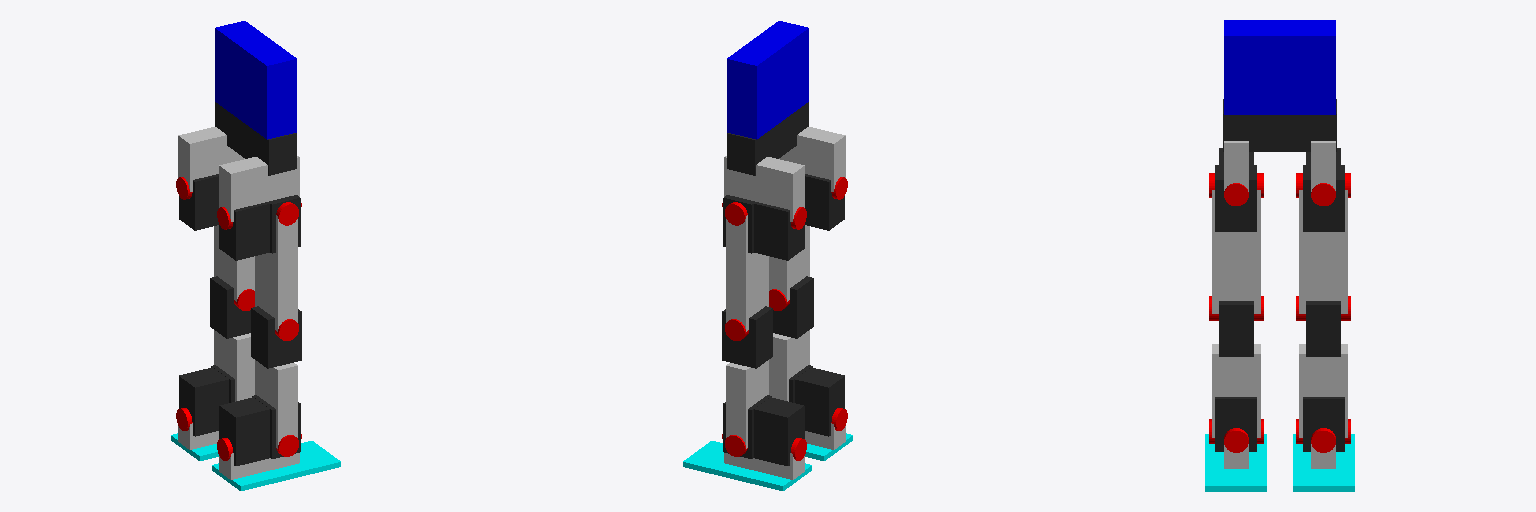
robot.urdf — humanoid:
<?xml version="1.0" ?>
<robot name="humanoid">
    <link name="body">
        <visual>
			<geometry>
				<box size="0.030 0.090 0.070"/>
			</geometry>
		    <origin xyz="0 0 0.355" rpy="0 0 0"/>
            <axis xyz="0 0 0" />
			<material name="blue">
	       		<color rgba="0 0 1 1.0"/>
	     	</material>
		</visual>
        <inertial>
            <mass value="0.3"/>
            <inertia ixx="0.000325" ixy="0.0" ixz="0.0" iyy="0.000145" iyz="0.0" izz="0.000225"/>
        </inertial>
        <collision>
			<geometry>
				<box size="0.030 0.090 0.070"/>
			</geometry>
		    <origin xyz="0 0 0.355" rpy="0 0 0"/>
        </collision>
    </link>


    <joint name="fixed_waist" type="fixed">
        <parent link="body"/>
        <child link="waist"/>
    </joint>

    <link name="waist">
        <visual>
			<geometry>
				<box size="0.0285 0.093 0.034"/>
			</geometry>
		    <origin xyz="0 0 0.303" rpy="0 0 0"/>
            <axis xyz="0 0 0" />
			<material name="motorColor">
	       		<color rgba="0.2 0.2 0.2 1.0"/>
	     	</material>
		</visual>
        <inertial>
            <mass value="0.116"/>
            <inertia ixx="9.478166666666668e-05" ixy="0.0" ixz="0.0" iyy="1.902641666666667e-05" iyz="0.0" izz="9.145875000000002e-05"/>
        </inertial>
    </link>

    <!-- Right leg -->
    
    <joint name="jointHipRZ" type="revolute">
        <parent link="waist"/>
        <child link="hipCylinderRZ"/>
        <origin xyz="0 -0.03525 0.25" rpy="0 0 0"/>
        <axis xyz="0 0 1"/>
    	<limit effort="10" lower="-3" upper="+3" velocity="10"/>
        <dynamics damping="0"/>
    </joint>

    <link name="hipCylinderRZ">
        <visual>
			<geometry>
				<cylinder length="0.04" radius="0.01"/>
			</geometry>
		    <origin xyz="0 0 0.02" rpy="0 0 0"/>
            <axis xyz="0 0 0" />
			<material name="red">
	       		<color rgba="1 0.0 0.0 1.0"/>
	     	</material>
		</visual>
        <inertial>
            <mass value="0"/>
            <inertia ixx="0" ixy="0" ixz="0.0" iyy="0" iyz="0.0" izz="0"/>
        </inertial>
    </link>

    <joint name="jointHipRX" type="revolute">
        <parent link="hipCylinderRZ"/>
        <child link="hipCylinderRX"/>
        <origin xyz="0 0 0" rpy="0 0 0"/>
        <axis xyz="1 0 0"/>
    	<limit effort="10" lower="-3" upper="+3" velocity="10"/>
        <dynamics damping="0"/>
    </joint>

    <link name="hipCylinderRX">
        <visual>
			<geometry>
				<cylinder length="0.0725" radius="0.01"/>
			</geometry>
		    <origin xyz="-0.017 0 0" rpy="0 1.57075 0"/>
            <axis xyz="0 0 0" />
			<material name="red"/>
		</visual>
        <inertial>
            <mass value="0"/>
            <inertia ixx="0" ixy="0" ixz="0.0" iyy="0" iyz="0.0" izz="0"/>
        </inertial>
    </link>

    <joint name="jointHipRY" type="revolute">
        <parent link="hipCylinderRX"/>
        <child link="hipCylinderRY"/>
        <origin xyz="0 0 0" rpy="0 0 0"/>
        <axis xyz="0 1 0"/>
    	<limit effort="10" lower="-3" upper="+3" velocity="10"/>
        <dynamics damping="0"/>
    </joint>

    <link name="hipCylinderRY">
        <visual>
			<geometry>
				<cylinder length="0.044" radius="0.01"/>
			</geometry>
		    <origin xyz="0 0 0" rpy="1.57075 0 0"/>
            <axis xyz="0 0 0" />
			<material name="red"/>
		</visual>
        <inertial>
            <mass value="0"/>
            <inertia ixx="0" ixy="0" ixz="0.0" iyy="0" iyz="0.0" izz="0"/>
        </inertial>
    </link>

    <joint name="jointKneeRY" type="revolute">
        <parent link="hipCylinderRY"/>
        <child link="kneeCylinderRY"/>
        <origin xyz="0 0 -0.11" rpy="0 0 0"/>
        <axis xyz="0 1 0"/>
    	<limit effort="10" lower="-3" upper="+3" velocity="10"/>
        <dynamics damping="0"/>
    </joint>

    <link name="kneeCylinderRY">
        <visual>
			<geometry>
				<cylinder length="0.044" radius="0.01"/>
			</geometry>
		    <origin xyz="0 0 0" rpy="1.57075 0 0"/>
            <axis xyz="0 0 0" />
			<material name="red"/>
		</visual>
        <inertial>
            <mass value="0"/>
            <inertia ixx="0" ixy="0" ixz="0.0" iyy="0" iyz="0.0" izz="0"/>
        </inertial>
    </link>

    <joint name="jointankleRY" type="revolute">
        <parent link="kneeCylinderRY"/>
        <child link="ankleCylinderRY"/>
        <origin xyz="0 0 -0.11" rpy="0 0 0"/>
        <axis xyz="0 1 0"/>
    	<limit effort="10" lower="-3" upper="+3" velocity="10"/>
        <dynamics damping="0"/>
    </joint>

    <link name="ankleCylinderRY">
        <visual>
			<geometry>
				<cylinder length="0.044" radius="0.01"/>
			</geometry>
		    <origin xyz="0 0 0" rpy="1.57075 0 0"/>
            <axis xyz="0 0 0" />
			<material name="red"/>
		</visual>
        <inertial>
            <mass value="0"/>
            <inertia ixx="0" ixy="0" ixz="0.0" iyy="0" iyz="0.0" izz="0"/>
        </inertial>
    </link>

    <joint name="jointankleRX" type="revolute">
        <parent link="ankleCylinderRY"/>
        <child link="ankleCylinderRX"/>
        <origin xyz="0 0 0" rpy="0 0 0"/>
        <axis xyz="1 0 0"/>
    	<limit effort="10" lower="-3" upper="+3" velocity="10"/>
        <dynamics damping="0"/>
    </joint>

    <link name="ankleCylinderRX">
        <visual>
			<geometry>
				<cylinder length="0.0725" radius="0.01"/>
			</geometry>
		    <origin xyz="-0.017 0 0" rpy="0 1.57075 0"/>
            <axis xyz="0 0 0" />
			<material name="red"/>
		</visual>
        <inertial>
            <mass value="0"/>
            <inertia ixx="0" ixy="0" ixz="0.0" iyy="0" iyz="0.0" izz="0"/>
        </inertial>
    </link>
     	
    <!-- Left leg -->
    
    <joint name="jointHipLZ" type="revolute">
        <parent link="waist"/>
        <child link="hipCylinderLZ"/>
        <origin xyz="0 0.03525 0.25" rpy="0 0 0"/>
        <axis xyz="0 0 1"/>
    	<limit effort="10" lower="-3" upper="+3" velocity="10"/>
        <dynamics damping="0"/>
    </joint>

    <link name="hipCylinderLZ">
        <visual>
			<geometry>
				<cylinder length="0.04" radius="0.01"/>
			</geometry>
		    <origin xyz="0 0 0.02" rpy="0 0 0"/>
            <axis xyz="0 0 0" />
			<material name="red">
	       		<color rgba="1 0.0 0.0 1.0"/>
	     	</material>
		</visual>
        <inertial>
            <mass value="0"/>
            <inertia ixx="0" ixy="0" ixz="0.0" iyy="0" iyz="0.0" izz="0"/>
        </inertial>
    </link>

    <joint name="jointHipLX" type="revolute">
        <parent link="hipCylinderLZ"/>
        <child link="hipCylinderLX"/>
        <origin xyz="0 0 0" rpy="0 0 0"/>
        <axis xyz="1 0 0"/>
    	<limit effort="10" lower="-3" upper="+3" velocity="10"/>
        <dynamics damping="0"/>
    </joint>

    <link name="hipCylinderLX">
        <visual>
			<geometry>
				<cylinder length="0.0725" radius="0.01"/>
			</geometry>
		    <origin xyz="-0.017 0 0" rpy="0 1.57075 0"/>
            <axis xyz="0 0 0" />
			<material name="red"/>
		</visual>
        <inertial>
            <mass value="0"/>
            <inertia ixx="0" ixy="0" ixz="0.0" iyy="0" iyz="0.0" izz="0"/>
        </inertial>
    </link>

    <joint name="jointHipLY" type="revolute">
        <parent link="hipCylinderLX"/>
        <child link="hipCylinderLY"/>
        <origin xyz="0 0 0" rpy="0 0 0"/>
        <axis xyz="0 1 0"/>
    	<limit effort="10" lower="-3" upper="+3" velocity="10"/>
        <dynamics damping="0"/>
    </joint>

    <link name="hipCylinderLY">
        <visual>
			<geometry>
				<cylinder length="0.044" radius="0.01"/>
			</geometry>
		    <origin xyz="0 0 0" rpy="1.57075 0 0"/>
            <axis xyz="0 0 0" />
			<material name="red"/>
		</visual>
        <inertial>
            <mass value="0"/>
            <inertia ixx="0" ixy="0" ixz="0.0" iyy="0" iyz="0.0" izz="0"/>
        </inertial>
    </link>

    <joint name="jointKneeLY" type="revolute">
        <parent link="hipCylinderLY"/>
        <child link="kneeCylinderLY"/>
        <origin xyz="0 0 -0.11" rpy="0 0 0"/>
        <axis xyz="0 1 0"/>
    	<limit effort="10" lower="-3" upper="+3" velocity="10"/>
        <dynamics damping="0"/>
    </joint>

    <link name="kneeCylinderLY">
        <visual>
			<geometry>
				<cylinder length="0.044" radius="0.01"/>
			</geometry>
		    <origin xyz="0 0 0" rpy="1.57075 0 0"/>
            <axis xyz="0 0 0" />
			<material name="red"/>
		</visual>
        <inertial>
            <mass value="0"/>
            <inertia ixx="0" ixy="0" ixz="0.0" iyy="0" iyz="0.0" izz="0"/>
        </inertial>
    </link>

    <joint name="jointankleLY" type="revolute">
        <parent link="kneeCylinderLY"/>
        <child link="ankleCylinderLY"/>
        <origin xyz="0 0 -0.11" rpy="0 0 0"/>
        <axis xyz="0 1 0"/>
    	<limit effort="10" lower="-3" upper="+3" velocity="10"/>
        <dynamics damping="0"/>
    </joint>

    <link name="ankleCylinderLY">
        <visual>
			<geometry>
				<cylinder length="0.044" radius="0.01"/>
			</geometry>
		    <origin xyz="0 0 0" rpy="1.57075 0 0"/>
            <axis xyz="0 0 0" />
			<material name="red"/>
		</visual>
        <inertial>
            <mass value="0"/>
            <inertia ixx="0" ixy="0" ixz="0.0" iyy="0" iyz="0.0" izz="0"/>
        </inertial>
    </link>

    <joint name="jointankleLX" type="revolute">
        <parent link="ankleCylinderLY"/>
        <child link="ankleCylinderLX"/>
        <origin xyz="0 0 0" rpy="0 0 0"/>
        <axis xyz="1 0 0"/>
    	<limit effort="10" lower="-3" upper="+3" velocity="10"/>
        <dynamics damping="0"/>
    </joint>

    <link name="ankleCylinderLX">
        <visual>
			<geometry>
				<cylinder length="0.0725" radius="0.01"/>
			</geometry>
		    <origin xyz="-0.017 0 0" rpy="0 1.57075 0"/>
            <axis xyz="0 0 0" />
			<material name="red"/>
		</visual>
        <inertial>
            <mass value="0"/>
            <inertia ixx="0" ixy="0" ixz="0.0" iyy="0" iyz="0.0" izz="0"/>
        </inertial>
    </link>




    <!-- Decorations R -->
    
    
    <joint name="fixed_hipBridgeR" type="fixed">
        <parent link="hipCylinderRZ"/>
        <child link="hipBridgeR"/>
    </joint>
    
    <link name="hipBridgeR">
      <visual>
			<geometry>
				<box size="0.0685 0.02 0.046"/>
			</geometry>
		    <origin xyz="-0.017 0 0.023" rpy="0 0 0"/>
			<material name="linkColor">
	       		<color rgba="0.8 0.8 0.8 1.0"/>
	     	</material>
		</visual>
        <inertial>
            <mass value="0.03"/>
            <inertia ixx="6.29e-06" ixy="0.0" ixz="0.0" iyy="1.7020625000000003e-05" iyz="0.0" izz="1.2730625000000003e-05"/>
        </inertial>
    </link>
    
    <joint name="fixed_hipMotorRF" type="fixed">
        <parent link="hipCylinderRX"/>
        <child link="hipMotorRF"/>
    </joint>
    
    <link name="hipMotorRF">
        <visual>
			<geometry>
				<box size="0.0285 0.034 0.0465"/>
			</geometry>
		    <origin xyz="0 0 -0.01225" rpy="0 0 0"/>
            <axis xyz="0 0 0" />
			<material name="motorColor">
	       		<color rgba="0.2 0.2 0.2 1.0"/>
	     	</material>
		</visual>
        <inertial>
            <mass value="0.058"/>
            <inertia ixx="1.6038208333333333e-05" ixy="0.0" ixz="0.0" iyy="1.4376750000000003e-05" iyz="0.0" izz="9.513208333333336e-06"/>
        </inertial>
    </link>
    
    <joint name="fixed_hipMotorRB" type="fixed">
        <parent link="hipCylinderRX"/>
        <child link="hipMotorRB"/>
    </joint>

    <link name="hipMotorRB">
        <visual>
			<geometry>
				<box size="0.034 0.0285 0.0465"/>
			</geometry>
		    <origin xyz="-0.0315 0 -0.01225" rpy="0 0 0"/>
            <axis xyz="0 0 0" />
			<material name="motorColor"/>
		</visual>
        <inertial>
            <mass value="0.058"/>
            <inertia ixx="1.4376750000000003e-05" ixy="0.0" ixz="0.0" iyy="1.6038208333333333e-05" iyz="0.0" izz="9.513208333333336e-06"/>
        </inertial>
    </link>
    
    <joint name="fixed_legUpR" type="fixed">
        <parent link="hipCylinderRY"/>
        <child link="legUpR"/>
    </joint>
 
    <link name="legUpR">
        <visual>
            <geometry>
                <box size="0.02 0.04 0.11"/>
            </geometry>
            <origin xyz="0 0 -0.055"/>
            <axis xyz="0 0 0" />
            <material name="linkColor"/>
        </visual>
        <inertial>
            <mass value="0.03"/>
            <inertia ixx="3.425e-05" ixy="0.0" ixz="0.0" iyy="3.1249999999999994e-05" iyz="0.0" izz="5e-06"/>
        </inertial>
    </link>
    
    <joint name="fixed_kneeMotorR" type="fixed">
        <parent link="kneeCylinderRY"/>
        <child link="kneeMotorR"/>
    </joint>
    
    <link name="kneeMotorR">
        <visual>
			<geometry>
				<box size="0.034 0.0285 0.0465"/>
			</geometry>
		    <origin xyz="0 0 -0.01225" rpy="0 0 0"/>
            <axis xyz="0 0 0" />
            <material name="motorColor"/>
		</visual>
        <inertial>
            <mass value="0.058"/>
            <inertia ixx="1.4376750000000003e-05" ixy="0.0" ixz="0.0" iyy="1.6038208333333333e-05" iyz="0.0" izz="1.6038208333333333e-05"/>
        </inertial>
    </link>

    <joint name="fixed_legDownR" type="fixed">
        <parent link="kneeCylinderRY"/>
        <child link="legDownR"/>
    </joint>
    
    <link name="legDownR">
        <visual>
            <geometry>
                <box size="0.02 0.04 0.07475"/>
            </geometry>
            <origin xyz="0 0 -0.073625"/>
            <axis xyz="0 0 0" />
            <material name="linkColor"/>
        </visual>
        <inertial>
            <mass value="0.03"/>
            <inertia ixx="1.796890625e-05" ixy="0.0" ixz="0.0" iyy="1.4968906249999999e-05" iyz="0.0" izz="5e-06"/>
        </inertial>
    </link>

    <joint name="fixed_ankleMotorRF" type="fixed">
        <parent link="ankleCylinderRY"/>
        <child link="ankleMotorRF"/>
    </joint>

    <link name="ankleMotorRF">
        <visual>
			<geometry>
				<box size="0.0285 0.034 0.0465"/>
			</geometry>
		    <origin xyz="0 0 0.01225" rpy="0 0 0"/>
            <axis xyz="0 0 0" />
            <material name="motorColor"/>
		</visual>
        <inertial>
            <mass value="0.058"/>
            <inertia ixx="1.6038208333333333e-05" ixy="0.0" ixz="0.0" iyy="1.4376750000000003e-05" iyz="0.0" izz="9.513208333333336e-06"/>
        </inertial>
    </link>

    <joint name="fixed_ankleMotorRB" type="fixed">
        <parent link="ankleCylinderRY"/>
        <child link="ankleMotorRB"/>
    </joint>
    
    <link name="ankleMotorRB">
        <visual>
			<geometry>
				<box size="0.034 0.0285 0.0465"/>
			</geometry>
		    <origin xyz="-0.0315 0 0.01225" rpy="0 0 0"/>
            <axis xyz="0 0 0" />
            <material name="motorColor"/>
		</visual>
        <inertial>
            <mass value="0.058"/>
            <inertia ixx="1.4376750000000003e-05" ixy="0.0" ixz="0.0" iyy="1.6038208333333333e-05" iyz="0.0" izz="9.513208333333336e-06"/>
        </inertial>
    </link>

    <joint name="fixed_footBridgeR" type="fixed">
        <parent link="ankleCylinderRX"/>
        <child link="footBridgeR"/>
    </joint>

    <link name = "footBridgeR">
        <visual>
			<geometry>
				<box size="0.0685 0.02 0.025"/>
			</geometry>
		    <origin xyz="-0.017 0 -0.0125" rpy="0 0 0"/>
            <axis xyz="0 0 0" />
            <material name="linkColor"/>
		</visual>
        <inertial>
            <mass value="0.009"/>
            <inertia ixx="8.541666666666668e-07" ixy="0.0" ixz="0.0" iyy="4.431041666666667e-06" iyz="0.0" izz="4.243541666666668e-06"/>
        </inertial>
    </link>

    <joint name="fixed_footR" type="fixed">
        <parent link="ankleCylinderRX"/>
        <child link="footR"/>
    </joint>

    <link name="footR">
        <visual>
			<geometry>
				<box size="0.10 0.05 0.005"/>
			</geometry>
		    <origin xyz="0.0 -0.0 -0.0275" rpy="0 0 0"/>
            <axis xyz="0 0 0" />
            <material name="footColor">
	       		<color rgba="0 1 1 1.0"/>
            </material>
		</visual>
        <inertial>
            <mass value="0.025"/>
            <inertia ixx="1.026041666666667e-05" ixy="0.0" ixz="0.0" iyy="4.692708333333334e-05" iyz="0.0" izz="5.7083333333333336e-05"/>
        </inertial>
        <!--
        <collision>
			<geometry>
				<box size="0.15 0.04 0.02"/>
			</geometry>
		    <origin xyz="0.02 -0.015 -0.02" rpy="0 0 0"/>
        </collision>
        <collision>
			<geometry>
				<box size="0.12 0.07 0.02"/>
			</geometry>
		    <origin xyz="0.02 -0.015 -0.02" rpy="0 0 0"/>
        </collision>
        -->
        <collision>
			<geometry>
				<box size="0.10 0.05 0.02"/>
			</geometry>
		    <origin xyz="0.00 -0.00 -0.02" rpy="0 0 0"/>
        </collision>
    </link>

    <!-- Decorations L -->
    
    <joint name="fixed_hipBridgeL" type="fixed">
        <parent link="hipCylinderLZ"/>
        <child link="hipBridgeL"/>
    </joint>
    
    <link name="hipBridgeL">
      <visual>
			<geometry>
				<box size="0.0685 0.02 0.046"/>
			</geometry>
		    <origin xyz="-0.017 0 0.023" rpy="0 0 0"/>
			<material name="linkColor">
	       		<color rgba="0.8 0.8 0.8 1.0"/>
	     	</material>
		</visual>
        <inertial>
            <mass value="0.03"/>
            <inertia ixx="6.29e-06" ixy="0.0" ixz="0.0" iyy="1.7020625000000003e-05" iyz="0.0" izz="1.2730625000000003e-05"/>
        </inertial>
    </link>
    
    <joint name="fixed_hipMotorLF" type="fixed">
        <parent link="hipCylinderLX"/>
        <child link="hipMotorLF"/>
    </joint>
    
    <link name="hipMotorLF">
        <visual>
			<geometry>
				<box size="0.0285 0.034 0.0465"/>
			</geometry>
		    <origin xyz="0 0 -0.01225" rpy="0 0 0"/>
            <axis xyz="0 0 0" />
			<material name="motorColor">
	       		<color rgba="0.2 0.2 0.2 1.0"/>
	     	</material>
		</visual>
        <inertial>
            <mass value="0.058"/>
            <inertia ixx="1.6038208333333333e-05" ixy="0.0" ixz="0.0" iyy="1.4376750000000003e-05" iyz="0.0" izz="9.513208333333336e-06"/>
        </inertial>
    </link>
    
    <joint name="fixed_hipMotorLB" type="fixed">
        <parent link="hipCylinderLX"/>
        <child link="hipMotorLB"/>
    </joint>

    <link name="hipMotorLB">
        <visual>
			<geometry>
				<box size="0.034 0.0285 0.0465"/>
			</geometry>
		    <origin xyz="-0.0315 0 -0.01225" rpy="0 0 0"/>
            <axis xyz="0 0 0" />
			<material name="motorColor"/>
		</visual>
        <inertial>
            <mass value="0.058"/>
            <inertia ixx="1.4376750000000003e-05" ixy="0.0" ixz="0.0" iyy="1.6038208333333333e-05" iyz="0.0" izz="9.513208333333336e-06"/>
        </inertial>
    </link>
    
    <joint name="fixed_legUpL" type="fixed">
        <parent link="hipCylinderLY"/>
        <child link="legUpL"/>
    </joint>
 
    <link name="legUpL">
        <visual>
            <geometry>
                <box size="0.02 0.04 0.11"/>
            </geometry>
            <origin xyz="0 0 -0.055"/>
            <axis xyz="0 0 0" />
            <material name="linkColor"/>
        </visual>
        <inertial>
            <mass value="0.03"/>
            <inertia ixx="3.425e-05" ixy="0.0" ixz="0.0" iyy="3.1249999999999994e-05" iyz="0.0" izz="5e-06"/>
        </inertial>
    </link>
    
    <joint name="fixed_kneeMotorL" type="fixed">
        <parent link="kneeCylinderLY"/>
        <child link="kneeMotorL"/>
    </joint>
    
    <link name="kneeMotorL">
        <visual>
			<geometry>
				<box size="0.034 0.0285 0.0465"/>
			</geometry>
		    <origin xyz="0 0 -0.01225" rpy="0 0 0"/>
            <axis xyz="0 0 0" />
            <material name="motorColor"/>
		</visual>
        <inertial>
            <mass value="0.058"/>
            <inertia ixx="1.4376750000000003e-05" ixy="0.0" ixz="0.0" iyy="1.6038208333333333e-05" iyz="0.0" izz="1.6038208333333333e-05"/>
        </inertial>
    </link>

    <joint name="fixed_legDownL" type="fixed">
        <parent link="kneeCylinderLY"/>
        <child link="legDownL"/>
    </joint>
    
    <link name="legDownL">
        <visual>
            <geometry>
                <box size="0.02 0.04 0.07475"/>
            </geometry>
            <origin xyz="0 0 -0.073625"/>
            <axis xyz="0 0 0" />
            <material name="linkColor"/>
        </visual>
        <inertial>
            <mass value="0.03"/>
            <inertia ixx="1.796890625e-05" ixy="0.0" ixz="0.0" iyy="1.4968906249999999e-05" iyz="0.0" izz="5e-06"/>
        </inertial>
    </link>

    <joint name="fixed_ankleMotorLF" type="fixed">
        <parent link="ankleCylinderLY"/>
        <child link="ankleMotorLF"/>
    </joint>

    <link name="ankleMotorLF">
        <visual>
			<geometry>
				<box size="0.0285 0.034 0.0465"/>
			</geometry>
		    <origin xyz="0 0 0.01225" rpy="0 0 0"/>
            <axis xyz="0 0 0" />
            <material name="motorColor"/>
		</visual>
        <inertial>
            <mass value="0.058"/>
            <inertia ixx="1.6038208333333333e-05" ixy="0.0" ixz="0.0" iyy="1.4376750000000003e-05" iyz="0.0" izz="9.513208333333336e-06"/>
        </inertial>
    </link>

    <joint name="fixed_ankleMotorLB" type="fixed">
        <parent link="ankleCylinderLY"/>
        <child link="ankleMotorLB"/>
    </joint>
    
    <link name="ankleMotorLB">
        <visual>
			<geometry>
				<box size="0.034 0.0285 0.0465"/>
			</geometry>
		    <origin xyz="-0.0315 0 0.01225" rpy="0 0 0"/>
            <axis xyz="0 0 0" />
            <material name="motorColor"/>
		</visual>
        <inertial>
            <mass value="0.058"/>
            <inertia ixx="1.4376750000000003e-05" ixy="0.0" ixz="0.0" iyy="1.6038208333333333e-05" iyz="0.0" izz="9.513208333333336e-06"/>
        </inertial>
    </link>

    <joint name="fixed_footBridgeL" type="fixed">
        <parent link="ankleCylinderLX"/>
        <child link="footBridgeL"/>
    </joint>

    <link name = "footBridgeL">
        <visual>
			<geometry>
				<box size="0.0685 0.02 0.025"/>
			</geometry>
		    <origin xyz="-0.017 0 -0.0125" rpy="0 0 0"/>
            <axis xyz="0 0 0" />
            <material name="linkColor"/>
		</visual>
        <inertial>
            <mass value="0.009"/>
            <inertia ixx="8.541666666666668e-07" ixy="0.0" ixz="0.0" iyy="4.431041666666667e-06" iyz="0.0" izz="4.243541666666668e-06"/>
        </inertial>
    </link>

    <joint name="fixed_ankleCylinderLX" type="fixed">
        <parent link="ankleCylinderLX"/>
        <child link="footL"/>
    </joint>

    <link name="footL">
        <visual>
			<geometry>
				<box size="0.10 0.05 0.005"/>
			</geometry>
		    <origin xyz="0.0 0.0 -0.0275" rpy="0 0 0"/>
            <axis xyz="0 0 0" />
            <material name="footColor">
	       		<color rgba="0 1 1 1.0"/>
            </material>
		</visual>
        <inertial>
            <mass value="0.025"/>
            <inertia ixx="1.026041666666667e-05" ixy="0.0" ixz="0.0" iyy="4.692708333333334e-05" iyz="0.0" izz="5.7083333333333336e-05"/>
        </inertial>
        <!--
        <collision>
			<geometry>
				<box size="0.15 0.04 0.02"/>
			</geometry>
		    <origin xyz="0.02 0.015 -0.02" rpy="0 0 0"/>
        </collision>
        <collision>
			<geometry>
				<box size="0.12 0.07 0.02"/>
			</geometry>
		    <origin xyz="0.02 0.015 -0.02" rpy="0 0 0"/>
        </collision>
        -->
        <collision>
			<geometry>
				<box size="0.10 0.05 0.02"/>
			</geometry>
		    <origin xyz="0.00 0.000 -0.02" rpy="0 0 0"/>
        </collision>
    </link>
</robot>

--- Render facts (derived) ---
Views: 3 orthographic renders of the robot side by side, from view 1: azimuth 30°, elevation 25°; view 2: azimuth 150°, elevation 25°; view 3: azimuth 270°, elevation 25°.
Model humanoid with 34 links and 33 joints (12 revolute, 21 fixed), rooted at body, posed every joint at zero.
Visible links, largest first — view 1: body, legUpR, hipBridgeR, ankleMotorRB, waist, ankleMotorLB, hipBridgeL, legDownR, hipMotorRB, kneeMotorR, footR, legDownL (+7 smaller); view 2: body, legUpL, hipBridgeL, ankleMotorLB, waist, ankleMotorRB, hipBridgeR, legDownL, hipMotorLB, kneeMotorL, footL, legDownR (+7 smaller); view 3: body, legUpR, legUpL, waist, legDownR, legDownL, footR, footL, kneeMotorR, kneeMotorL, hipMotorRF, hipMotorLF (+4 smaller).
Boxes of the visible links, x1,y1,x2,y2 form: body: (215,21,296,139); legUpR: (255,215,297,331); hipBridgeR: (219,156,299,221); ankleMotorRB: (219,397,269,465); waist: (215,102,296,175); ankleMotorLB: (179,367,228,436); hipBridgeL: (178,127,244,191); legDownR: (255,360,297,448); hipMotorRB: (219,202,269,260); kneeMotorR: (251,306,301,368); footR: (212,441,340,490); legDownL: (214,330,254,401); body: (727,21,808,139); legUpL: (726,215,768,331); hipBridgeL: (724,156,804,221); ankleMotorLB: (754,397,804,465); waist: (727,102,808,175); ankleMotorRB: (795,367,844,436); hipBridgeR: (779,127,845,191); legDownL: (726,360,768,448); hipMotorLB: (754,202,804,260); kneeMotorL: (722,306,772,368); footL: (683,441,811,490); legDownR: (769,330,809,401); body: (1224,20,1335,114); legUpR: (1212,190,1260,313); legUpL: (1299,190,1347,313); waist: (1223,99,1336,151); legDownR: (1212,344,1260,437); legDownL: (1299,344,1347,437); footR: (1205,434,1266,491); footL: (1293,434,1354,491); kneeMotorR: (1219,301,1253,356); kneeMotorL: (1306,301,1340,356); hipMotorRF: (1215,165,1256,231); hipMotorLF: (1303,165,1344,231).
Size in the robot's own frame: 0.1033 by 0.1205 by 0.39 metres.
Geometry: primitives only (box / cylinder / sphere), no mesh files.